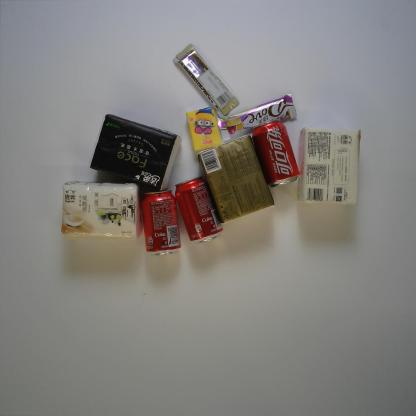Chocolate: (172, 43, 240, 119), (216, 92, 299, 142)
Drink: (173, 173, 226, 244), (250, 118, 301, 188), (140, 189, 182, 257)
Tissue: (88, 112, 183, 192), (197, 133, 275, 225), (294, 126, 362, 206), (61, 179, 142, 239), (186, 106, 226, 155)
